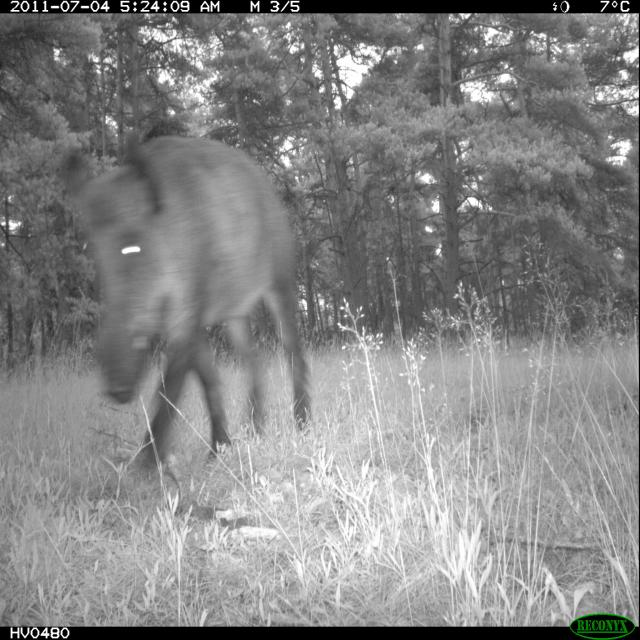boar: (49, 106, 337, 510)
